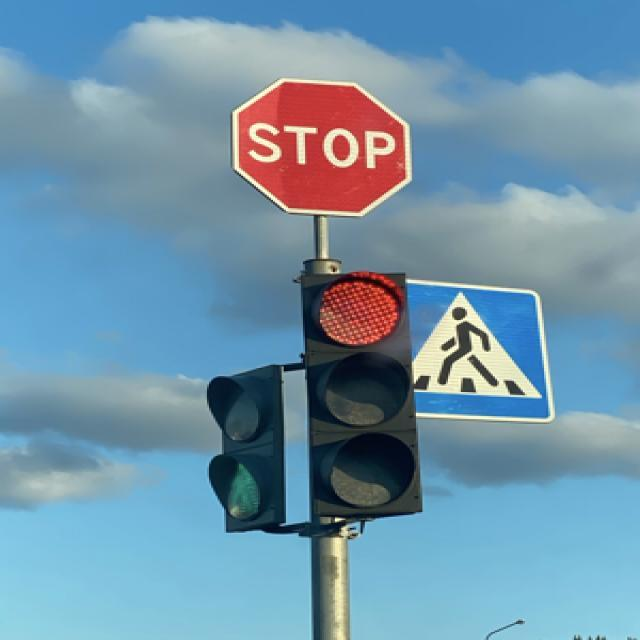crosswalk_sign: (403, 278, 557, 426)
stop: (232, 76, 414, 220)
